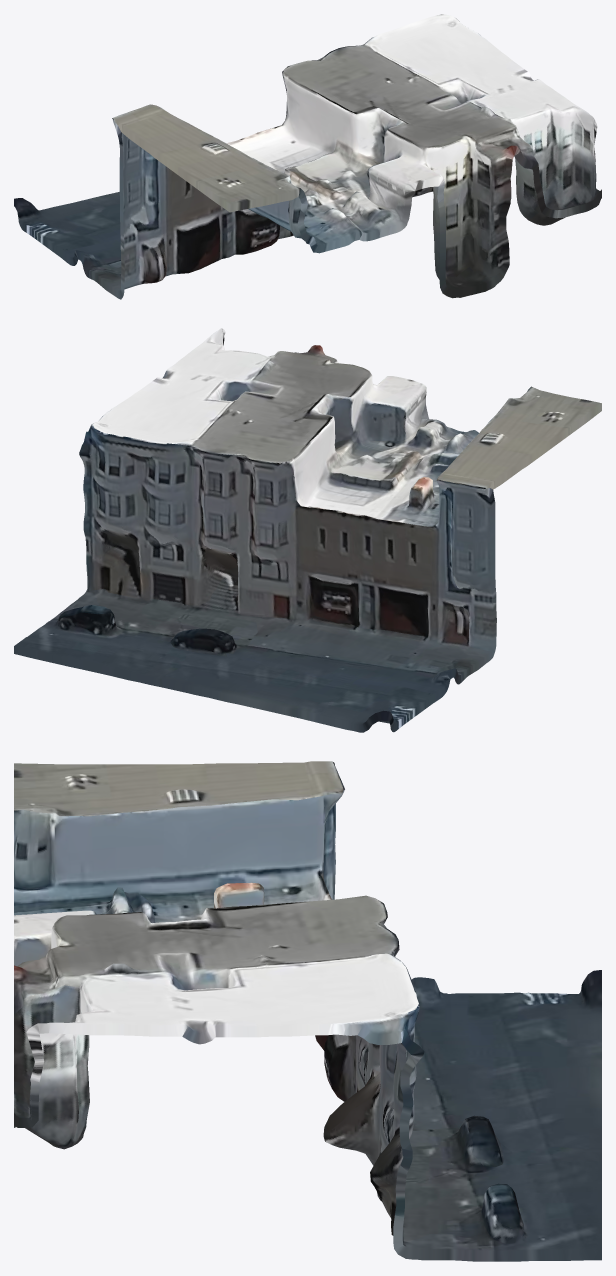
Rendered from z20-167744-405194-h0-yup-uvflip-v3-world.glb.
3 renders of one model, top to bottom at view 1: azimuth 30°, elevation 25°; view 2: azimuth 150°, elevation 25°; view 3: azimuth 270°, elevation 25°, orthographic. The views are drawn at different scales.
Bounding box in the file's own units: 30.16 × 14.44 × 30.32.
Materials: 1 (1 with a texture image).
